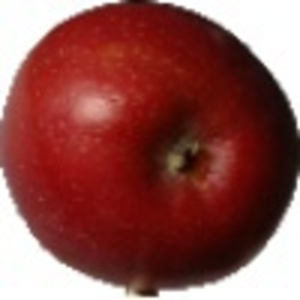maçã braeburn: (1, 1, 297, 291)
